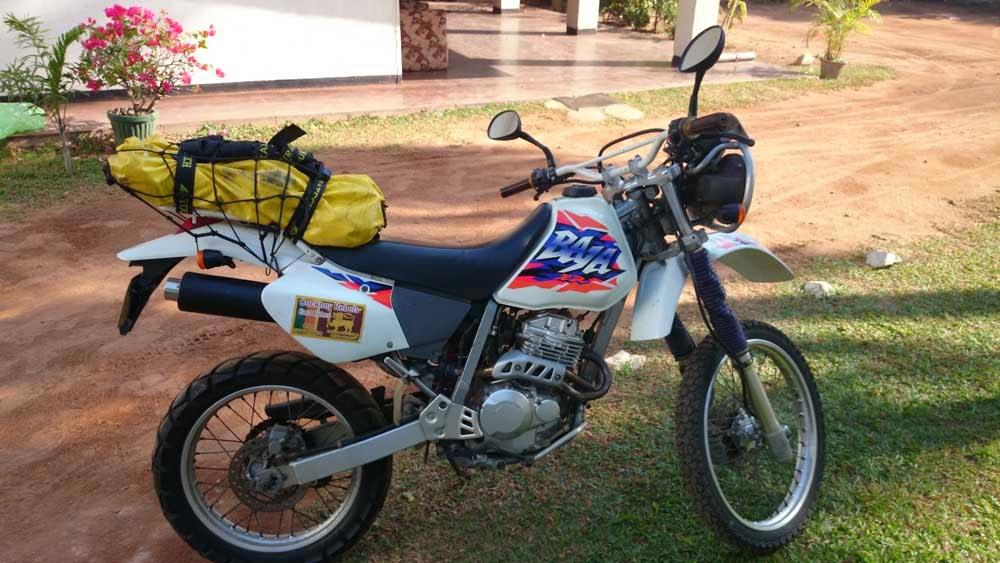motorbike: (115, 25, 826, 563)
